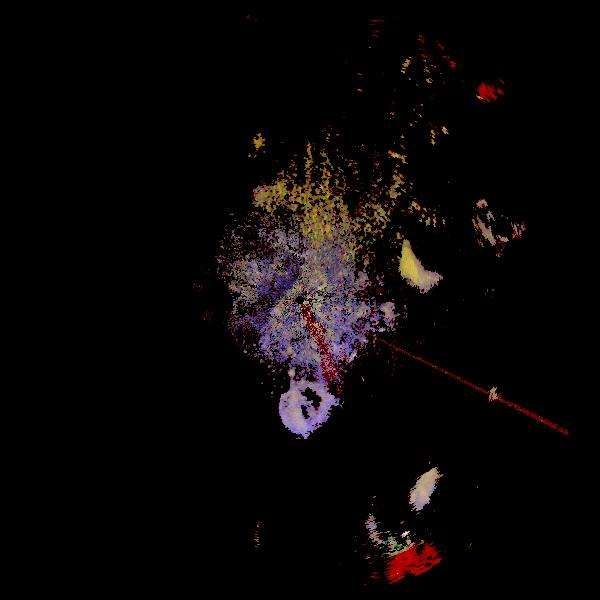roost: (353, 149, 515, 311)
